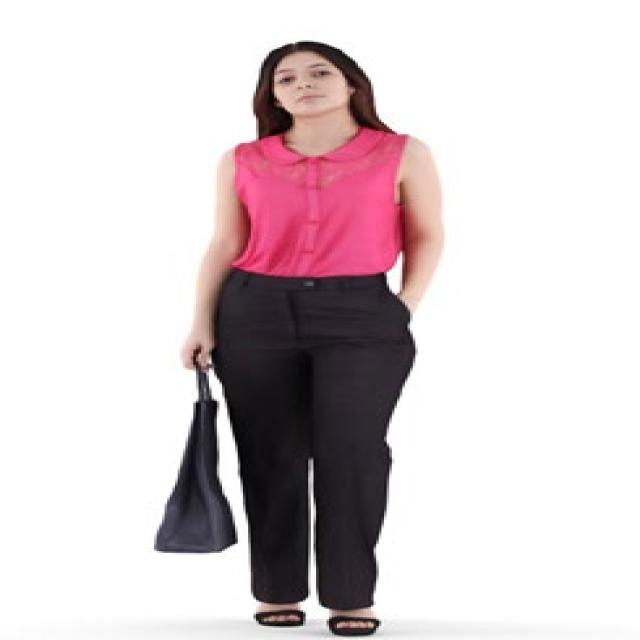standing: (182, 38, 452, 638)
